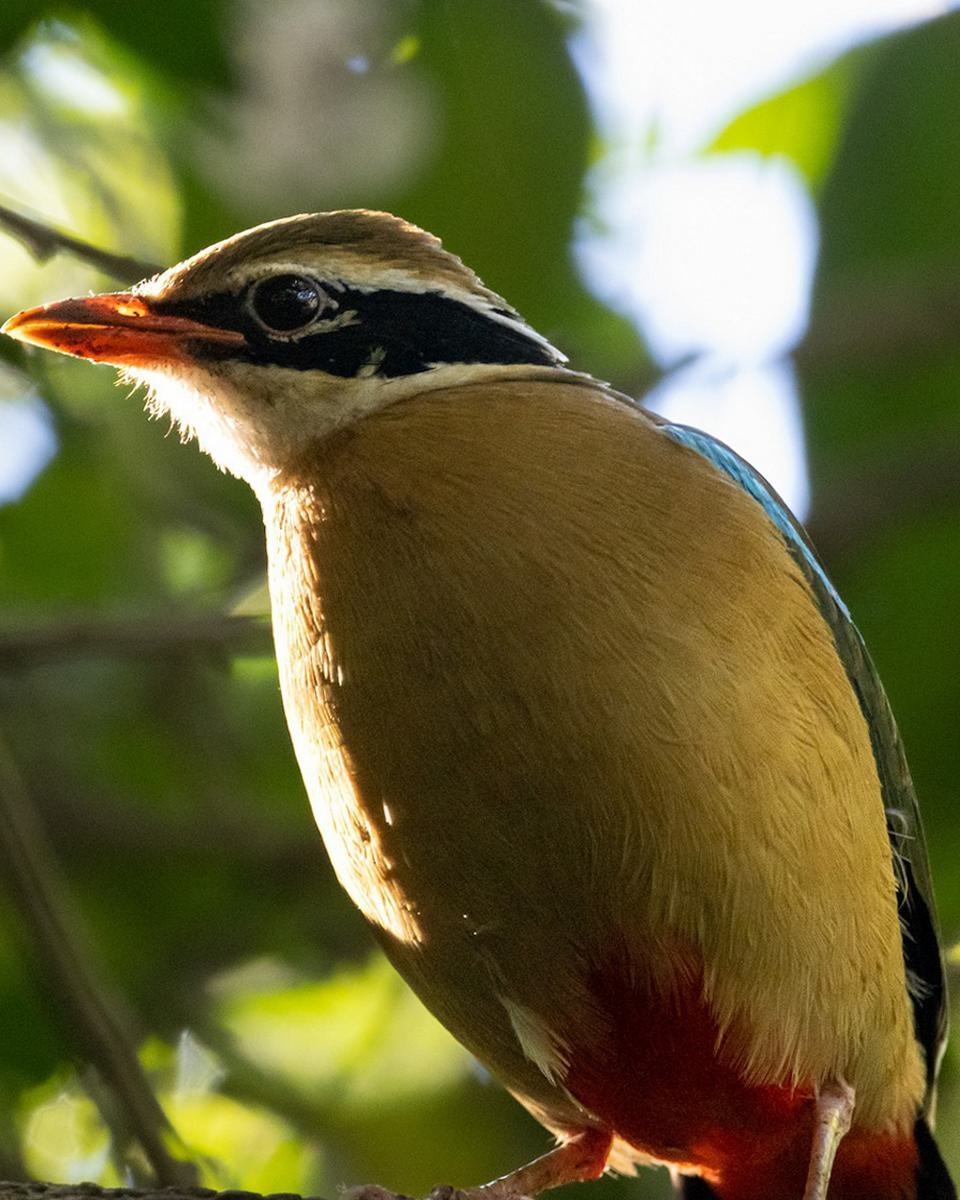pitta: (34, 212, 960, 1088)
